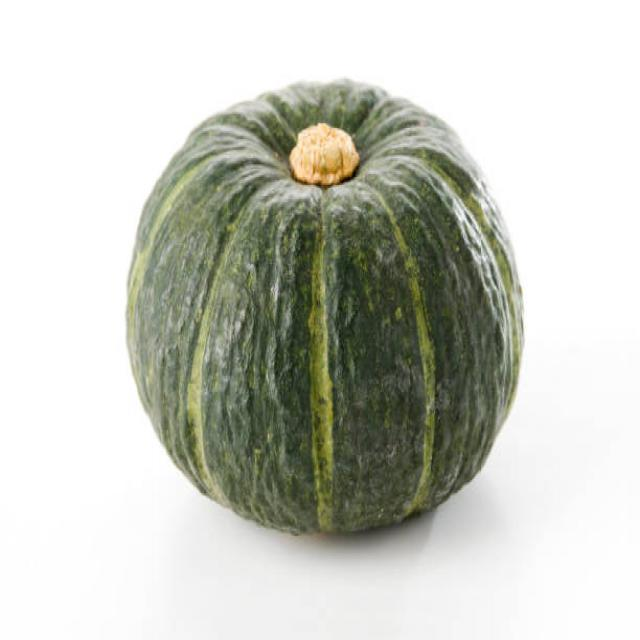pumpkin: (118, 75, 530, 548)
